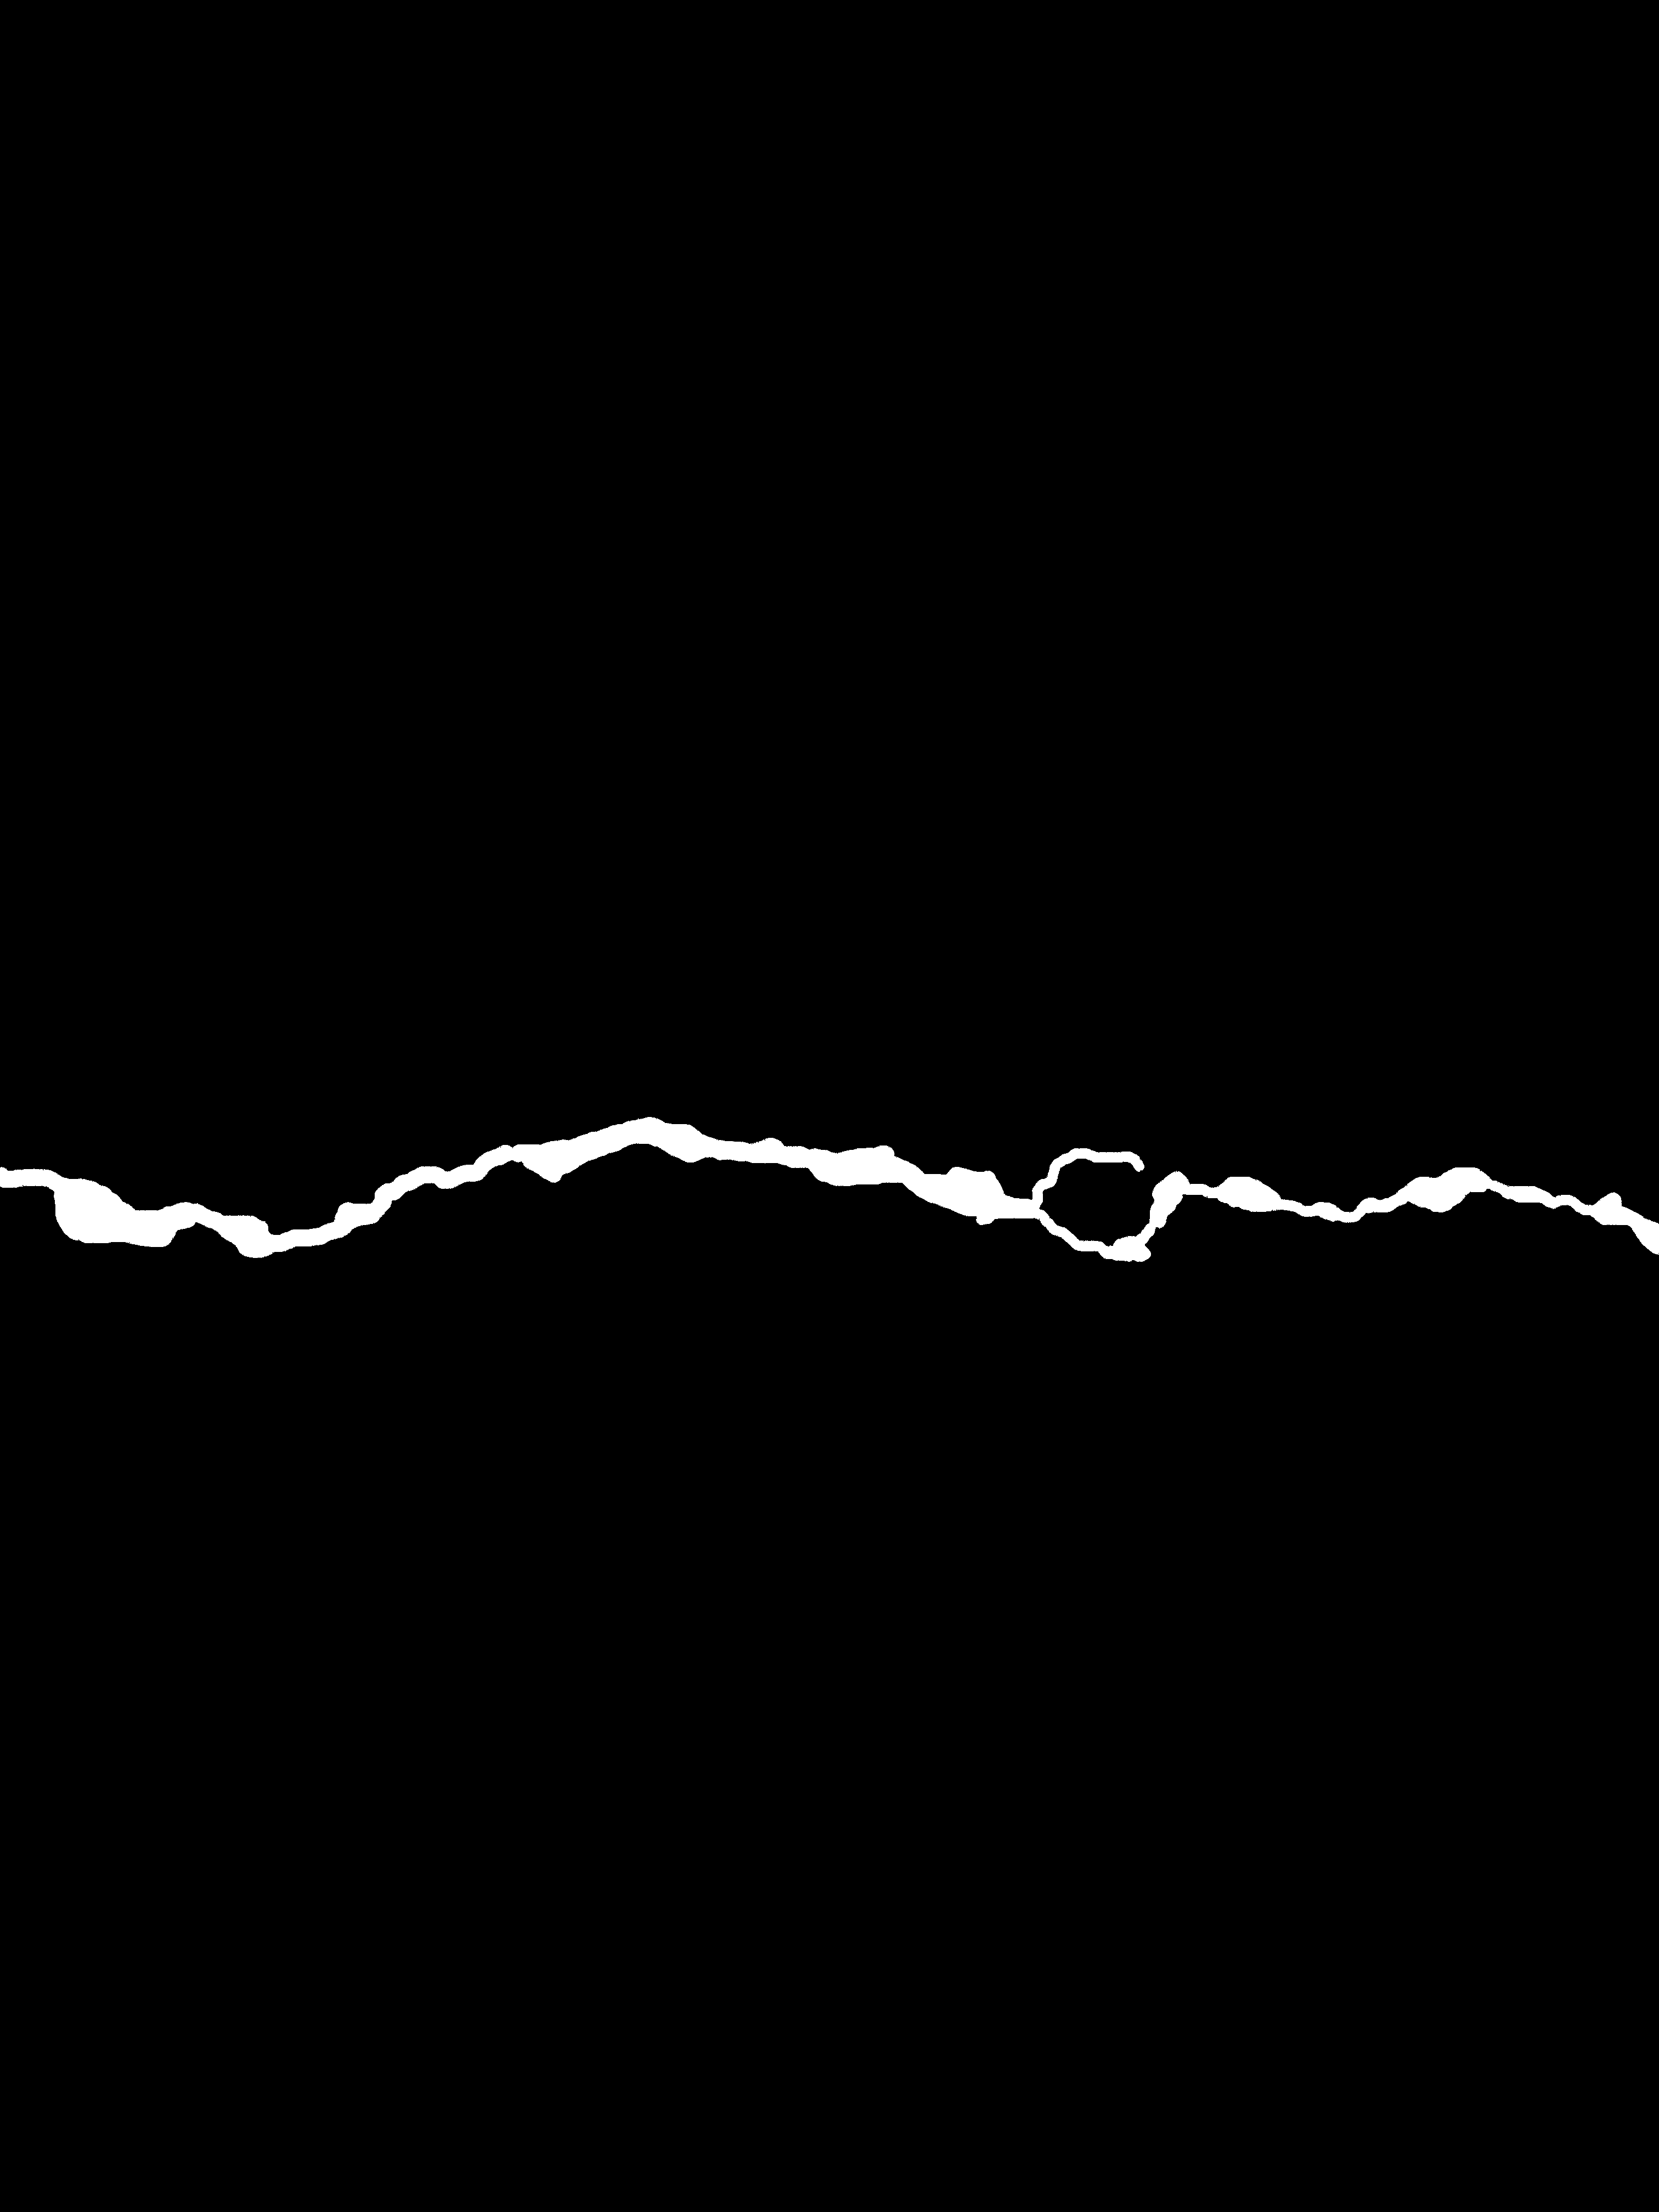Crack: (0, 1083, 1659, 1296)
